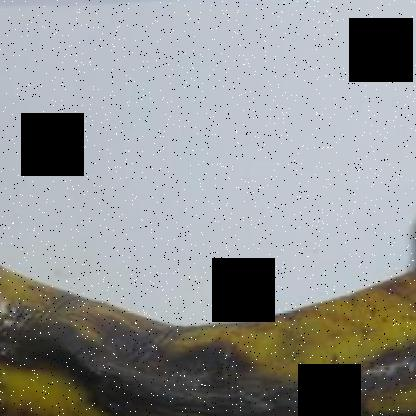overripe: (1, 191, 415, 415)
